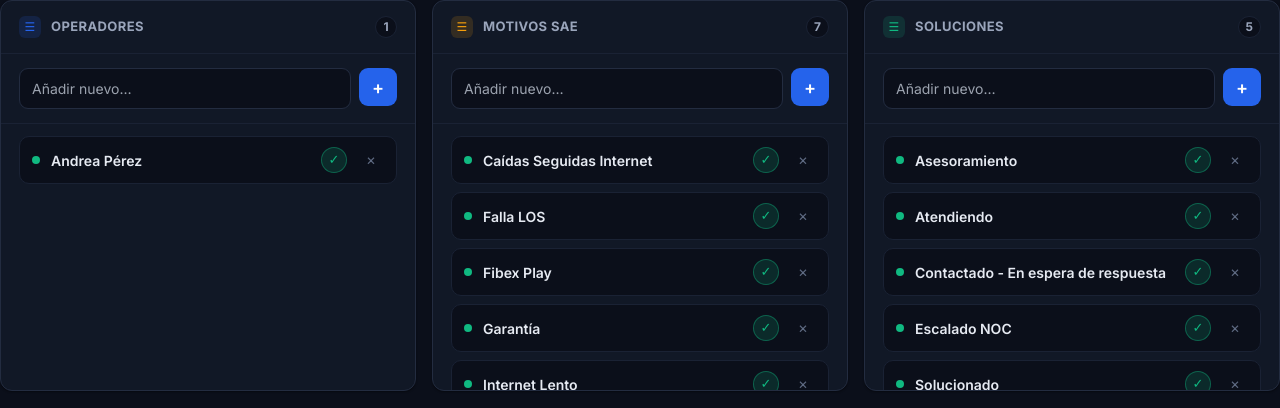
Catálogo de Operadores (UI-local seeded del back) › ofrece un input para añadir y al agregar aparece el nuevo operador
This screenshot has width=1280, height=408.
Expected: the text "Andrea Pérez" is shown, [51, 152, 142, 168]
Type "Nuevo Operador" into the field named "Añadir a Operadores" at (185, 88), box [19, 68, 351, 109]
Then press Enter
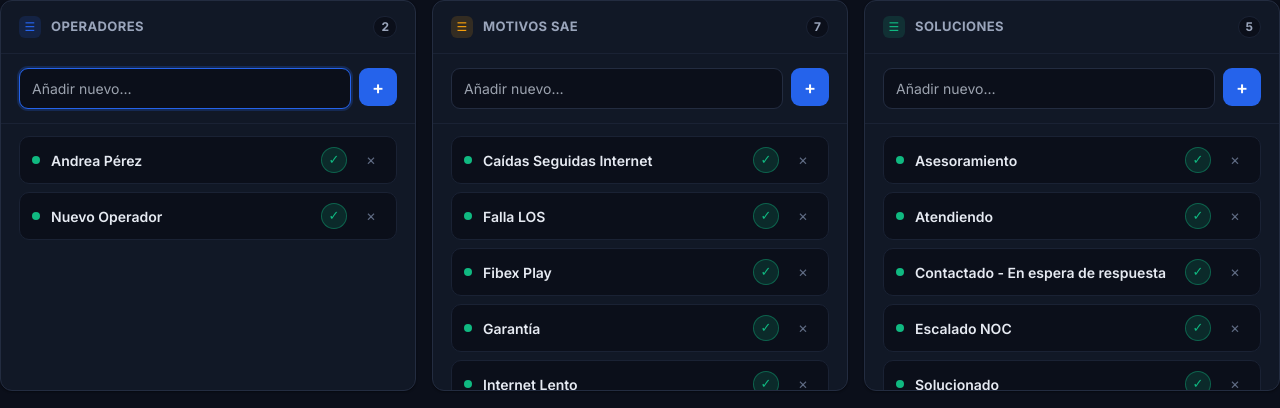
Result: the text "Nuevo Operador" is shown at [51, 208, 162, 224]
